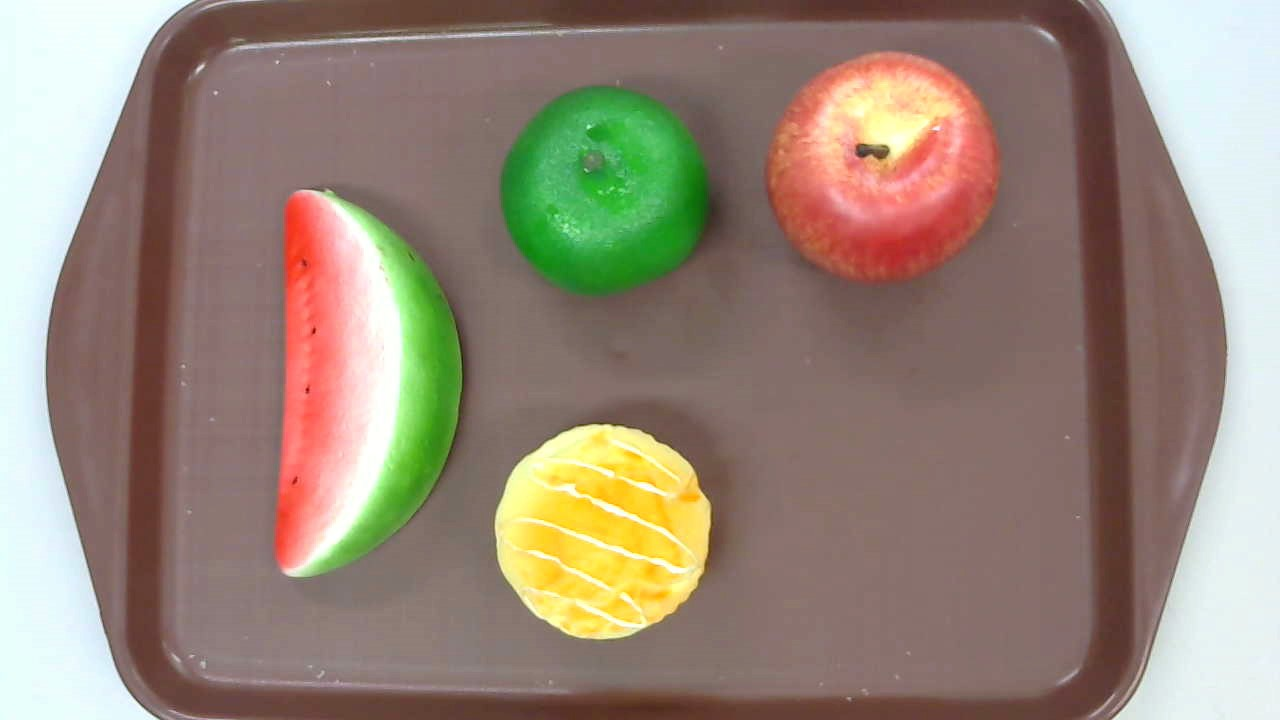cupcake: (493, 422, 713, 641)
green orange: (500, 86, 710, 300)
red apple: (766, 49, 1003, 288)
water melon: (270, 188, 462, 578)
